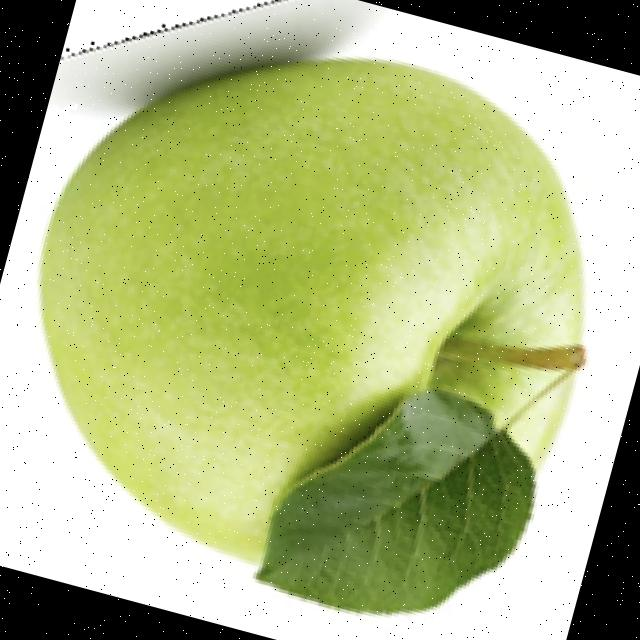apple: (34, 0, 591, 621)
